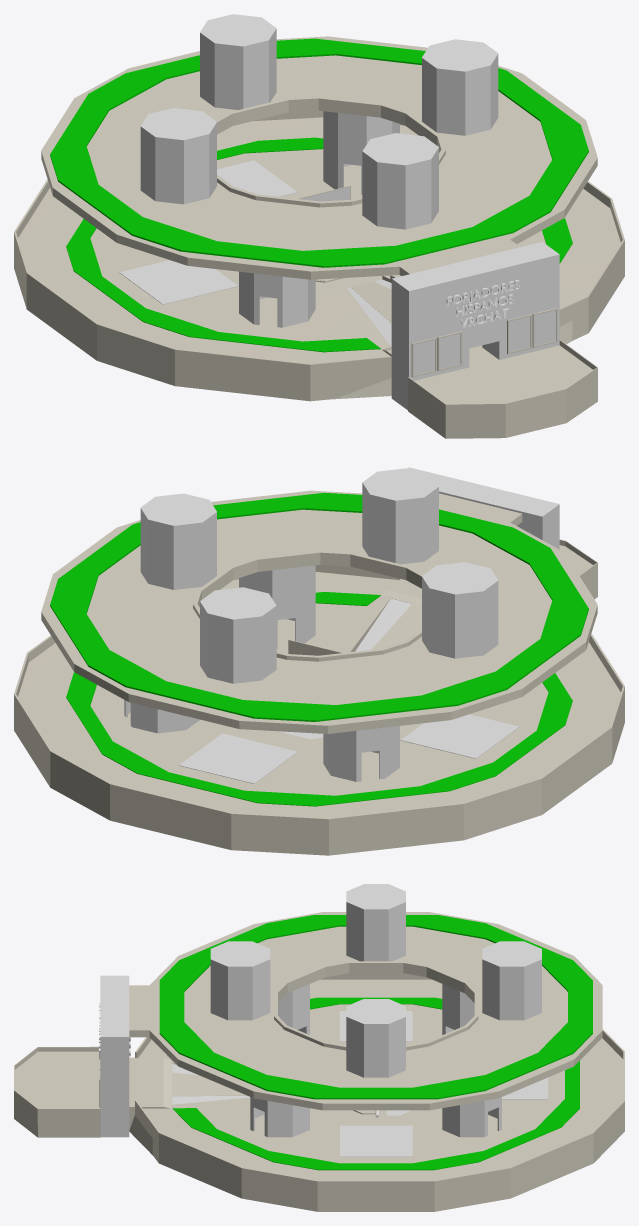
The model's file is Mapa Forjadores Ivanovichhv2.fbx.
3 views of the same model, one above another, from view 1: azimuth 30°, elevation 25°; view 2: azimuth 150°, elevation 25°; view 3: azimuth 270°, elevation 25° (orthographic). The views are drawn at different scales.
Visible parts, largest first — view 1: Segundo PIso, Primer Piso, Columnas, Rial 2, Lobby B, Columnas.001, 00-Espacios Para Constriur, Rampa entrada B, Texto Forjadores, Pizarra C.002, Pizarra B.001, Pizarra B.002 (+1 smaller); view 2: Segundo PIso, Primer Piso, Columnas, Rial 2, Columnas.001, 00-Espacios Para Constriur, Lobby B, Rampa entrada B; view 3: Segundo PIso, Primer Piso, Rial 2, Columnas, Lobby B, Columnas.001, 00-Espacios Para Constriur, Rampa entrada B, Centro.
Boxes of the visible parts, box(x1,y1,x2,y2) form: Segundo PIso: box(41, 36, 597, 279); Primer Piso: box(18, 117, 620, 399); Columnas: box(140, 14, 498, 229); Rial 2: box(14, 110, 624, 438); Lobby B: box(382, 242, 592, 409); Columnas.001: box(239, 111, 399, 327); 00-Espacios Para Constriur: box(119, 160, 297, 304); Rampa entrada B: box(347, 279, 391, 346); Texto Forjadores: box(446, 280, 519, 328); Pizarra C.002: box(532, 308, 557, 347); Pizarra B.001: box(437, 331, 462, 371); Pizarra B.002: box(411, 337, 436, 377); Segundo PIso: box(41, 490, 597, 733); Primer Piso: box(18, 572, 620, 818); Columnas: box(140, 468, 498, 683); Rial 2: box(14, 539, 624, 855); Columnas.001: box(124, 565, 399, 781); 00-Espacios Para Constriur: box(179, 714, 519, 783); Lobby B: box(382, 467, 592, 605); Rampa entrada B: box(355, 598, 421, 651); Segundo PIso: box(129, 912, 602, 1110); Primer Piso: box(129, 979, 623, 1180); Rial 2: box(14, 973, 624, 1211); Columnas: box(210, 884, 541, 1077); Lobby B: box(15, 975, 172, 1137); Columnas.001: box(250, 984, 501, 1137); 00-Espacios Para Constriur: box(339, 1011, 548, 1156); Rampa entrada B: box(172, 1064, 249, 1104); Centro: box(330, 1110, 422, 1117).
Bounding box in the file's own units: 8545 × 2893 × 10494.
